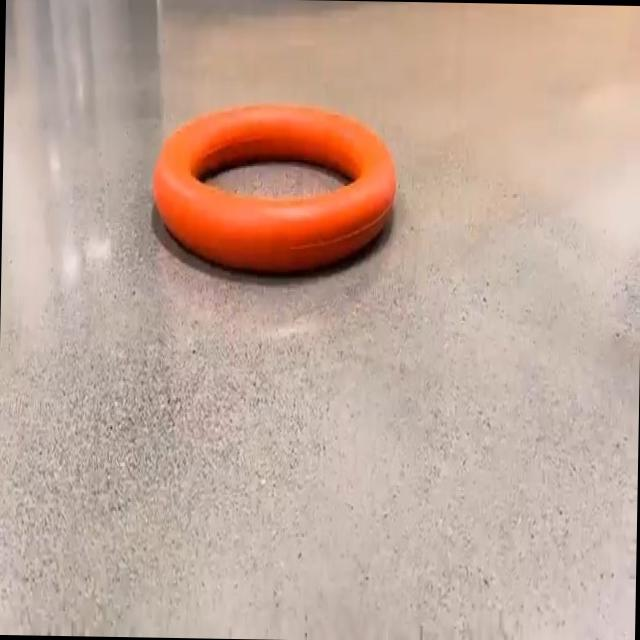note: (153, 103, 396, 272)
